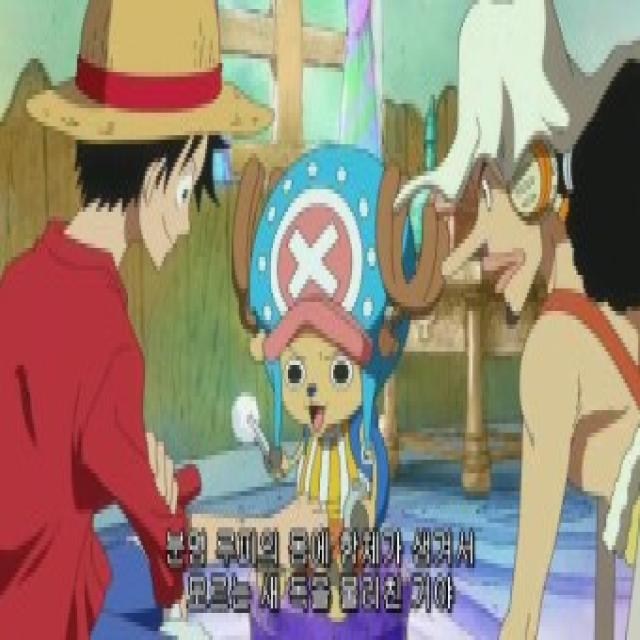Chyopa: (227, 121, 463, 460)
Luffy: (16, 8, 289, 276)
Usopp: (439, 8, 637, 332)
